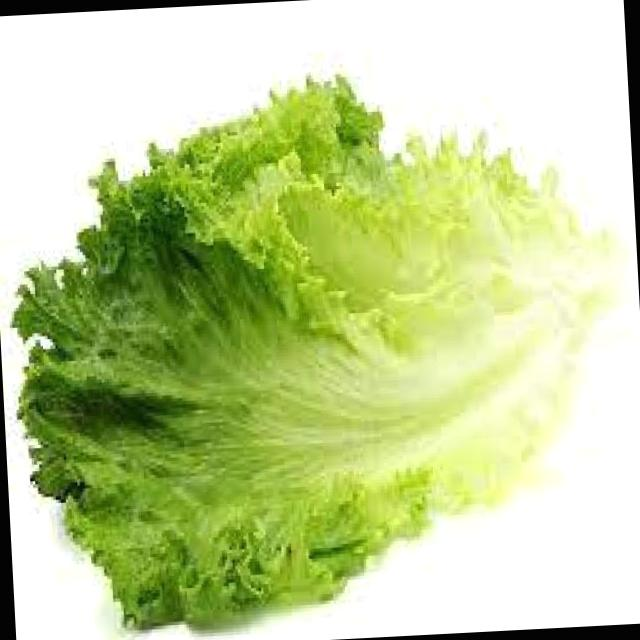Lettuce-Ready-to-Harvest: (14, 77, 599, 627)
